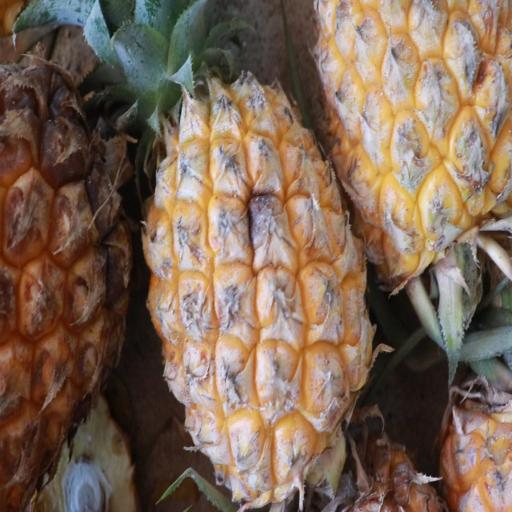Pineapple - v8 v1: (136, 34, 370, 512), (0, 19, 137, 512), (309, 0, 512, 284)
